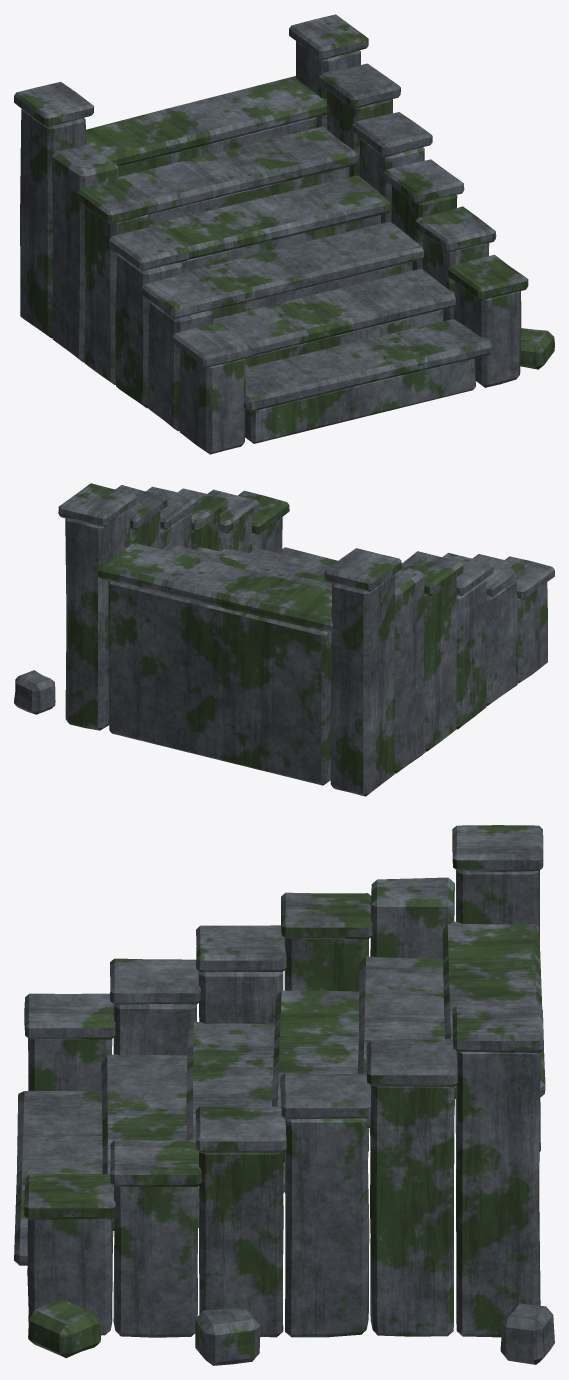
Rendered from Bell_Stair_Straight_B.glb.
The picture shows the model from 3 angles, top to bottom: view 1: azimuth 30°, elevation 25°; view 2: azimuth 150°, elevation 25°; view 3: azimuth 270°, elevation 25°; orthographic projection. The views are drawn at different scales.
Visible parts, largest first — view 1: Bell_Stair_Straight_B__Stone; view 2: Bell_Stair_Straight_B__Stone; view 3: Bell_Stair_Straight_B__Stone.
Boxes of the visible parts, <box> form: Bell_Stair_Straight_B__Stone: <box>14,14,554,454</box>; Bell_Stair_Straight_B__Stone: <box>14,483,554,796</box>; Bell_Stair_Straight_B__Stone: <box>14,825,554,1365</box>.
Size of the model in its own units: 14.45 by 8.33 by 13.28.
1 material, 1 textured.
